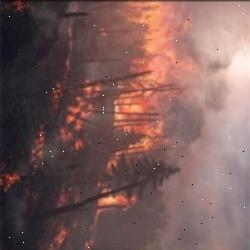fire: (57, 0, 165, 220)
